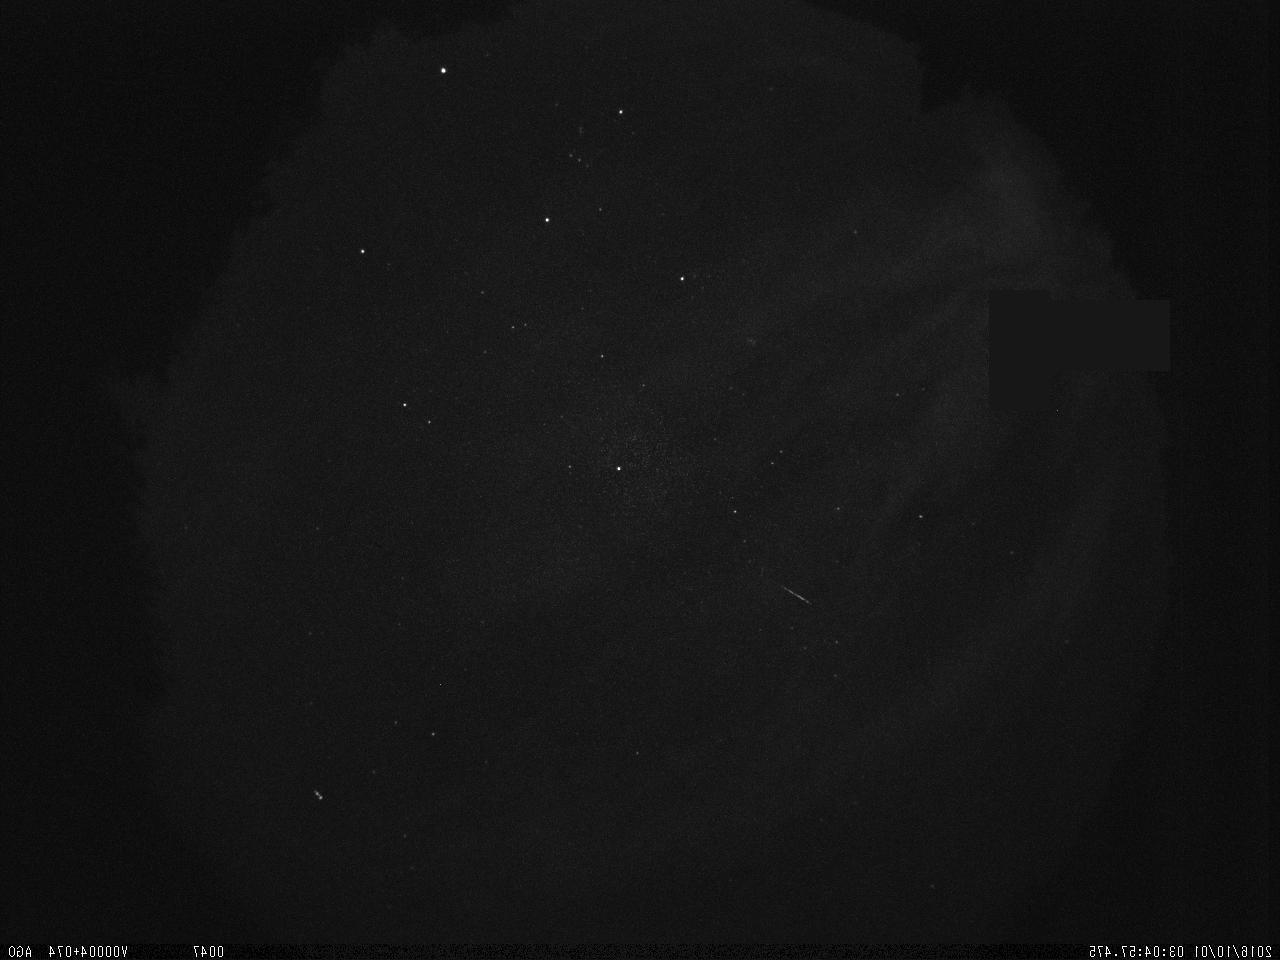meteor: (761, 574, 817, 609)
